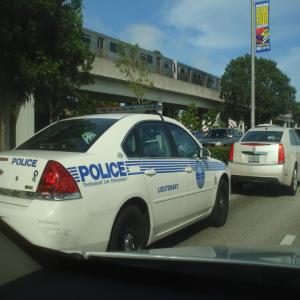Vehicle-registration-plate: (249, 154, 260, 164)
